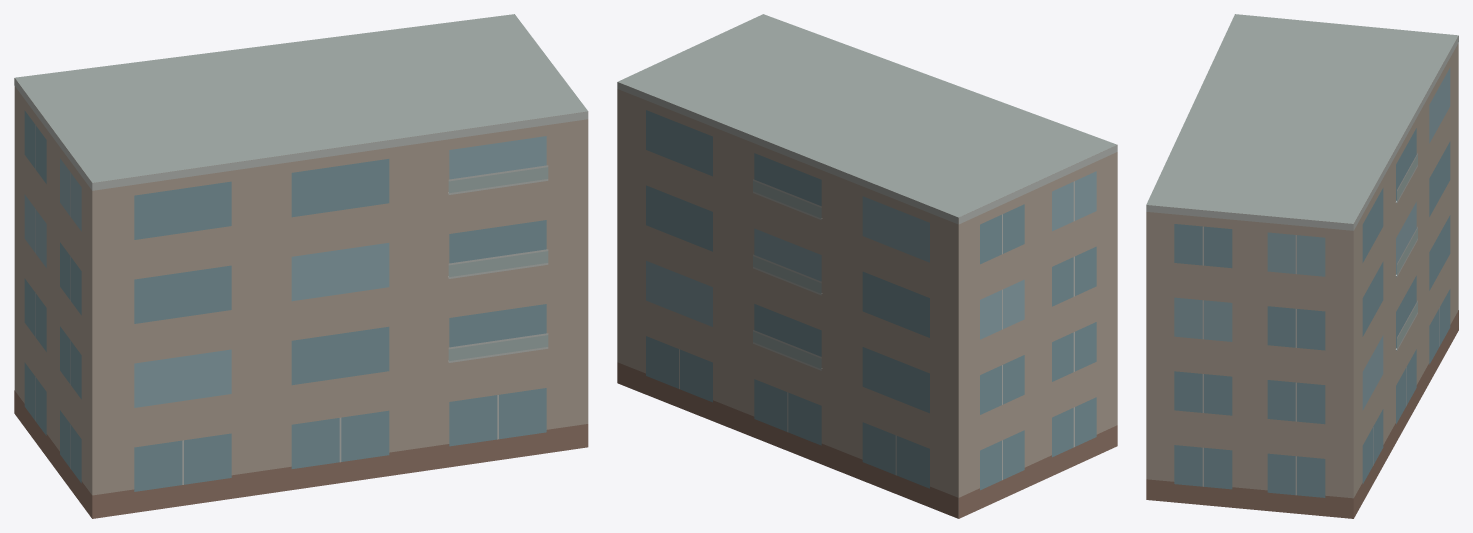
The model's file is survey-upis-32764602.glb.
3 renders of one model, left to right at view 1: azimuth 30°, elevation 25°; view 2: azimuth 150°, elevation 25°; view 3: azimuth 270°, elevation 25°, orthographic. The views are drawn at different scales.
Visible parts, largest first — view 1: survey-upis-32764602.tmp; view 2: survey-upis-32764602.tmp; view 3: survey-upis-32764602.tmp.
Boxes of the visible parts, x1=… form: survey-upis-32764602.tmp: x1=14, y1=14, x2=588, y2=518; survey-upis-32764602.tmp: x1=617, y1=14, x2=1117, y2=518; survey-upis-32764602.tmp: x1=1146, y1=14, x2=1458, y2=518.
Bounding box in the file's own units: 15.98 × 10.46 × 10.06.
